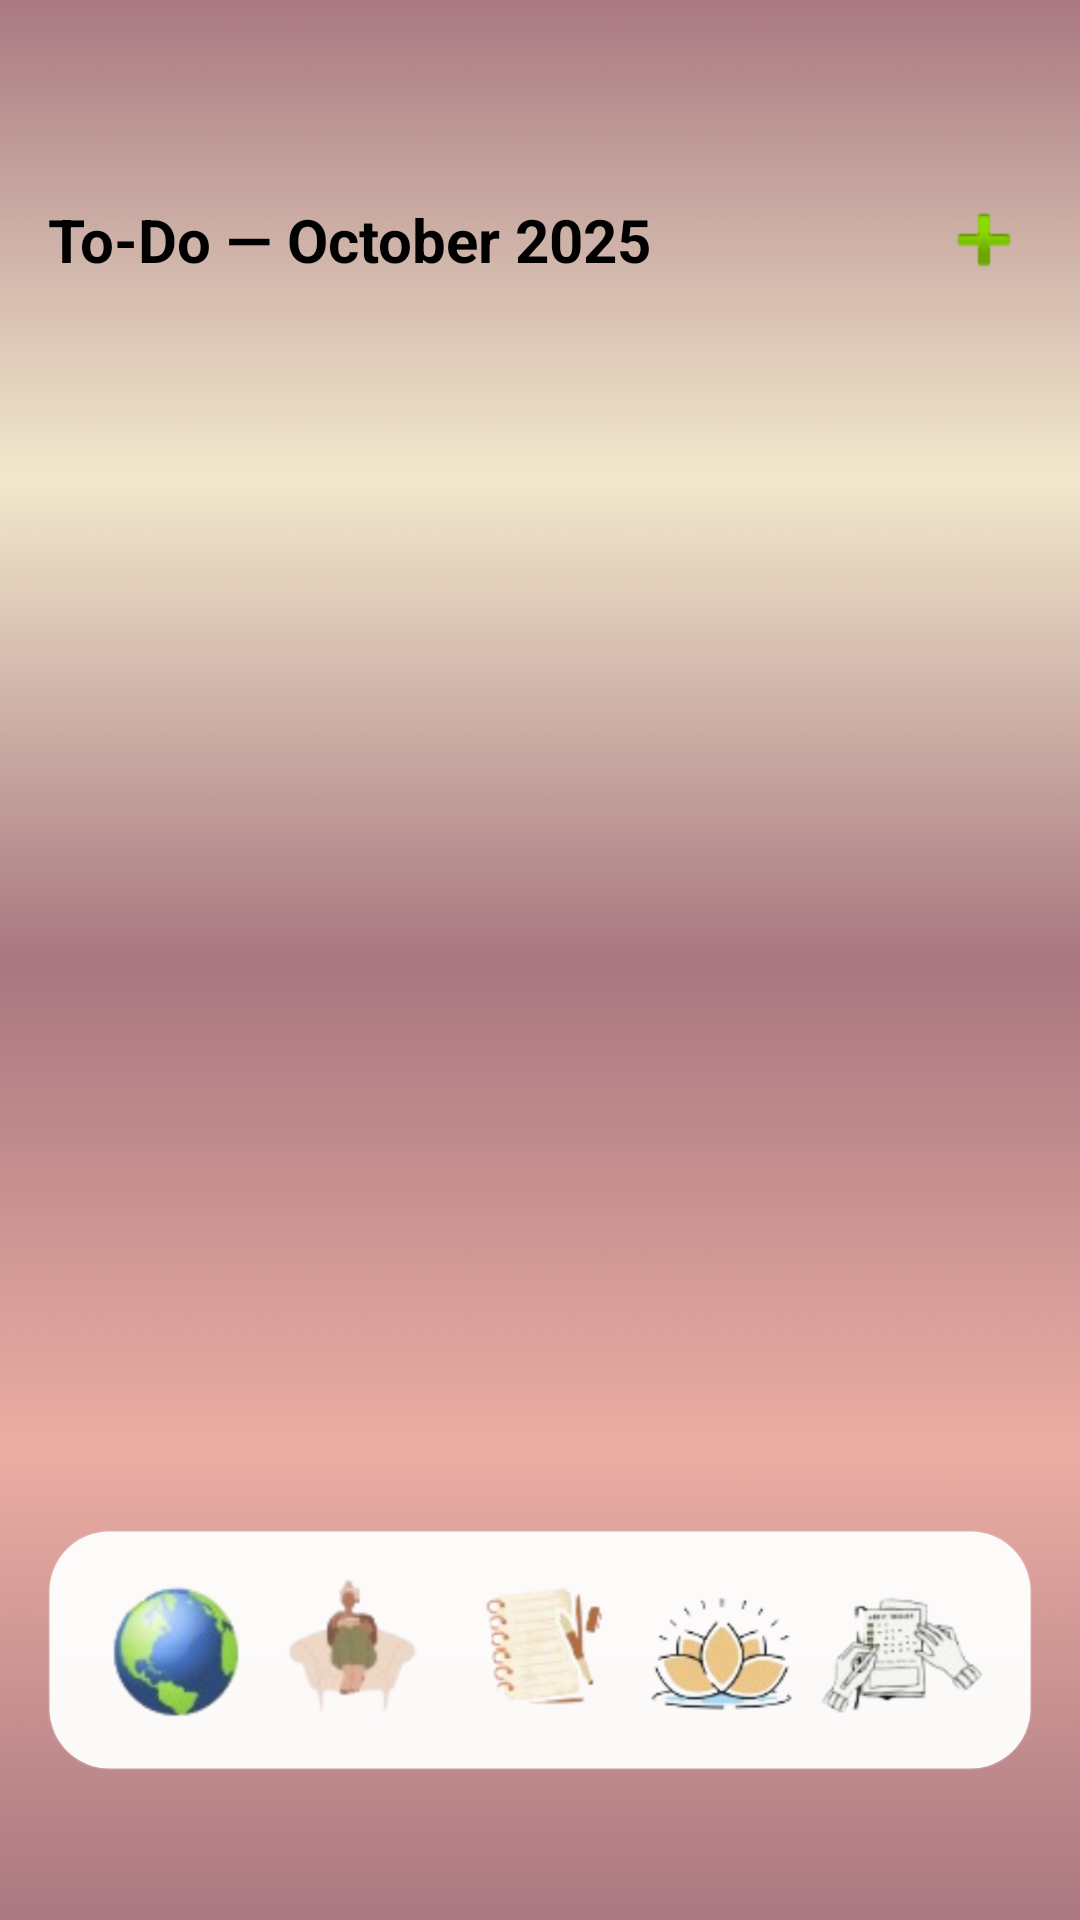

Point at icon controls on the screen. Image size 1080px x 1920px, points as point (x, y).
divertissement: point (352, 1644)
habits: point (902, 1655)
journal: point (544, 1646)
travels: point (176, 1651)
